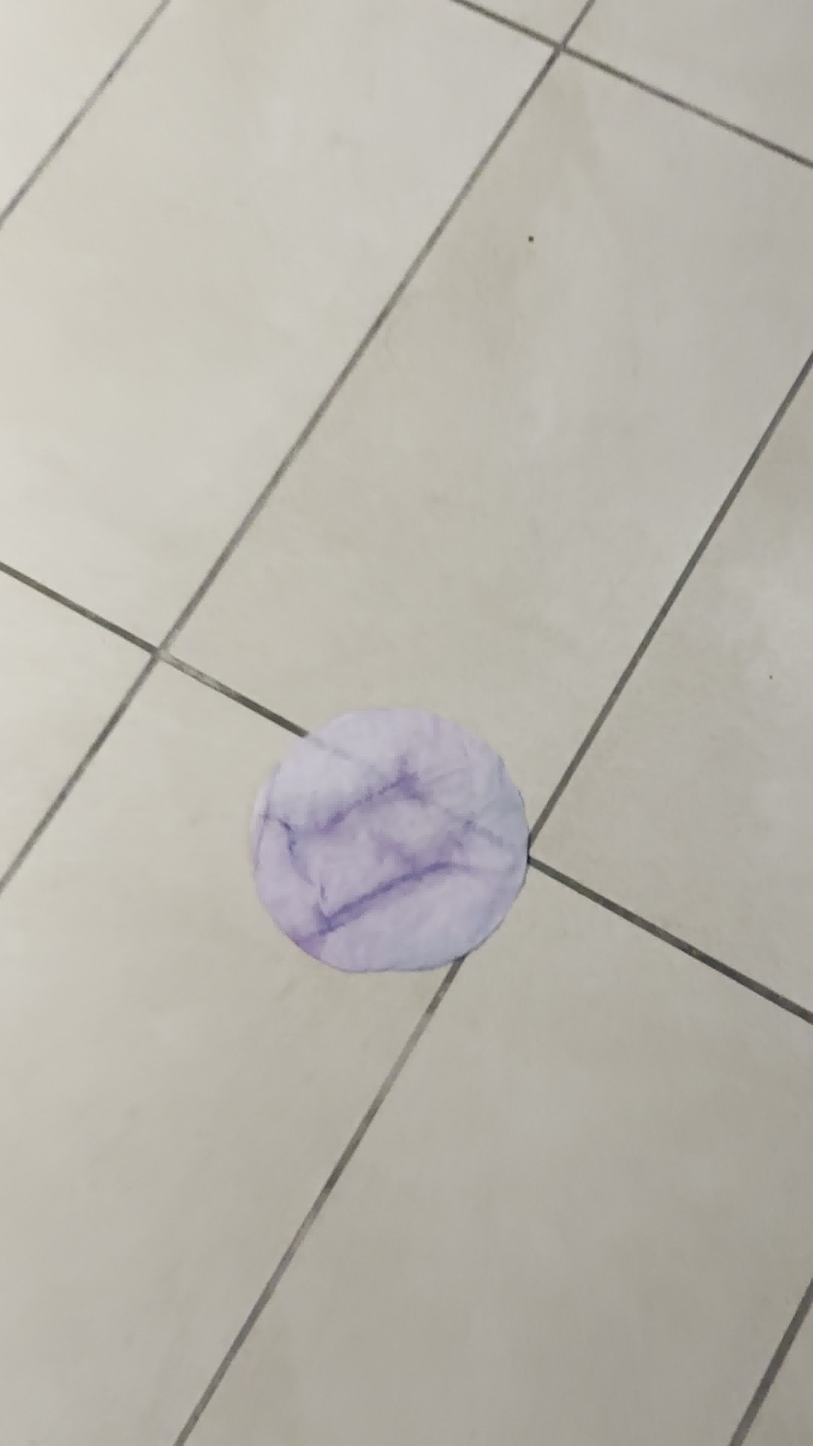Target: (250, 710, 529, 976)
